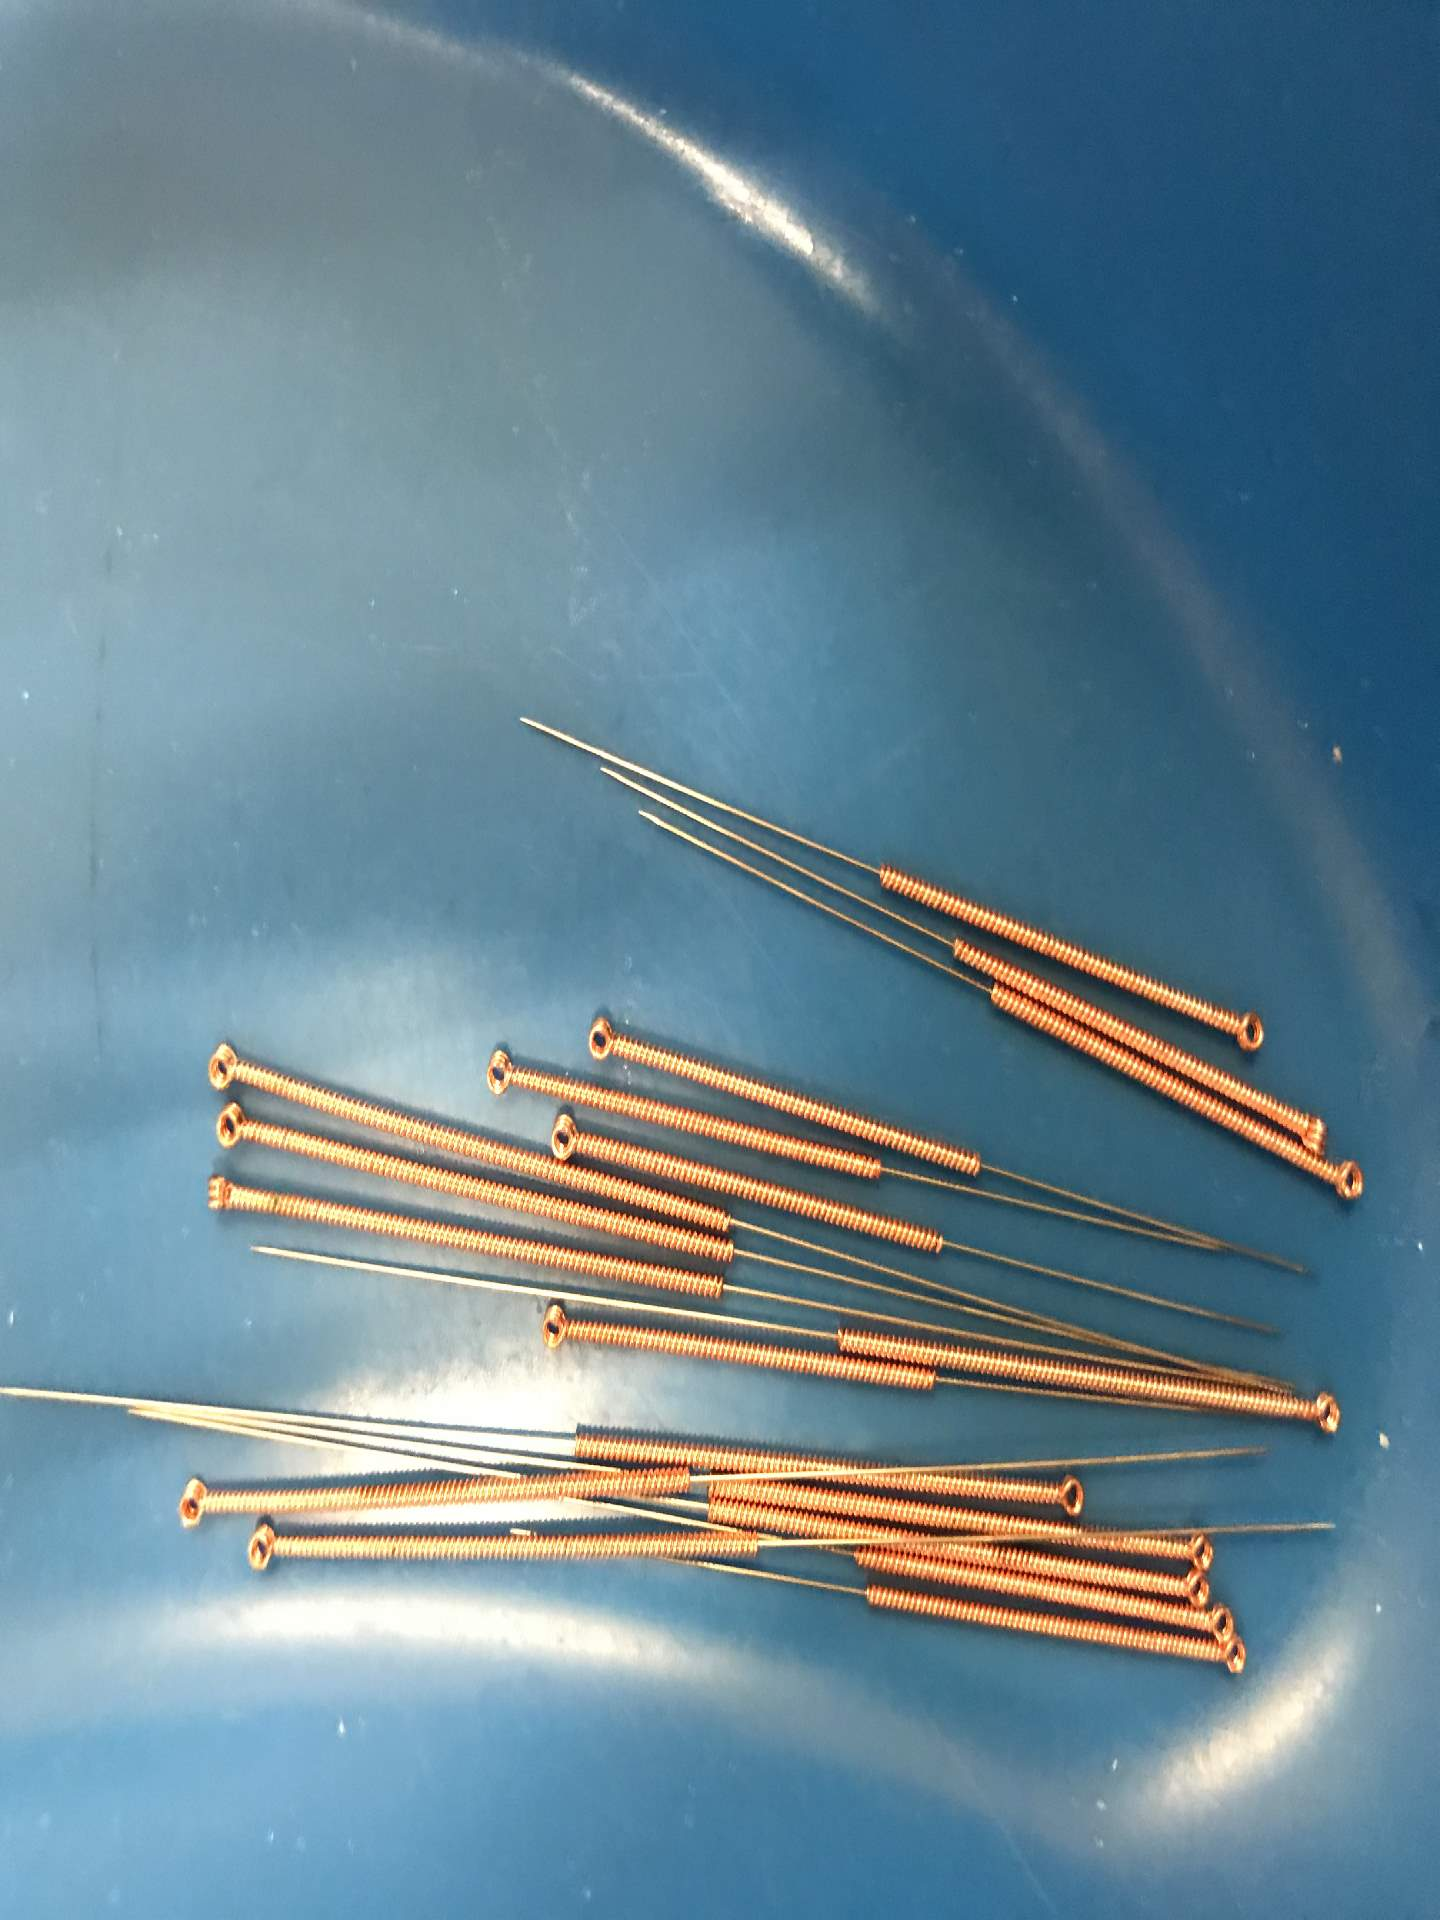needle: (466, 1036, 529, 1107), (1290, 1376, 1354, 1447), (572, 1005, 634, 1072), (189, 1030, 250, 1098), (195, 1099, 263, 1160), (1219, 996, 1280, 1063), (523, 1297, 585, 1361), (162, 1471, 222, 1536), (234, 1518, 295, 1578), (191, 1169, 250, 1228), (1325, 1146, 1370, 1215), (1041, 1466, 1095, 1522), (545, 1108, 593, 1169), (1192, 1636, 1254, 1683), (1290, 1095, 1331, 1155), (1171, 1524, 1219, 1574), (1186, 1601, 1237, 1645), (1165, 1565, 1212, 1612)
